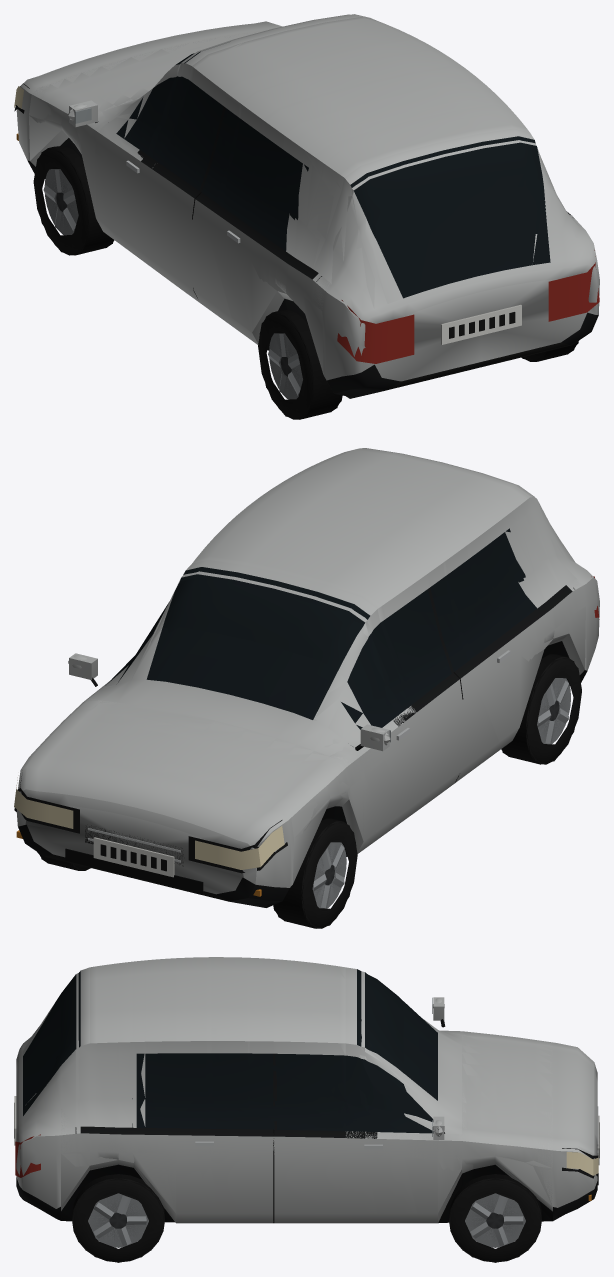
The model's file is hatchback.glb.
The picture shows the model from 3 angles, top to bottom: view 1: azimuth 30°, elevation 25°; view 2: azimuth 150°, elevation 25°; view 3: azimuth 270°, elevation 25°; orthographic projection. The views are drawn at different scales.
Visible parts, largest first — view 1: near, far, distant; view 2: near, far, distant; view 3: near, far, distant.
Boxes of the visible parts, box(x1,y1,x2,y2) form: near: box(14, 14, 599, 419); far: box(32, 17, 597, 419); distant: box(29, 14, 574, 415); near: box(14, 448, 599, 928); far: box(16, 448, 585, 928); distant: box(41, 457, 585, 924); near: box(14, 957, 599, 1261); far: box(16, 957, 597, 1262); distant: box(61, 957, 552, 1251).
Size of the model in its own units: 2.01 by 1.56 by 3.78.
